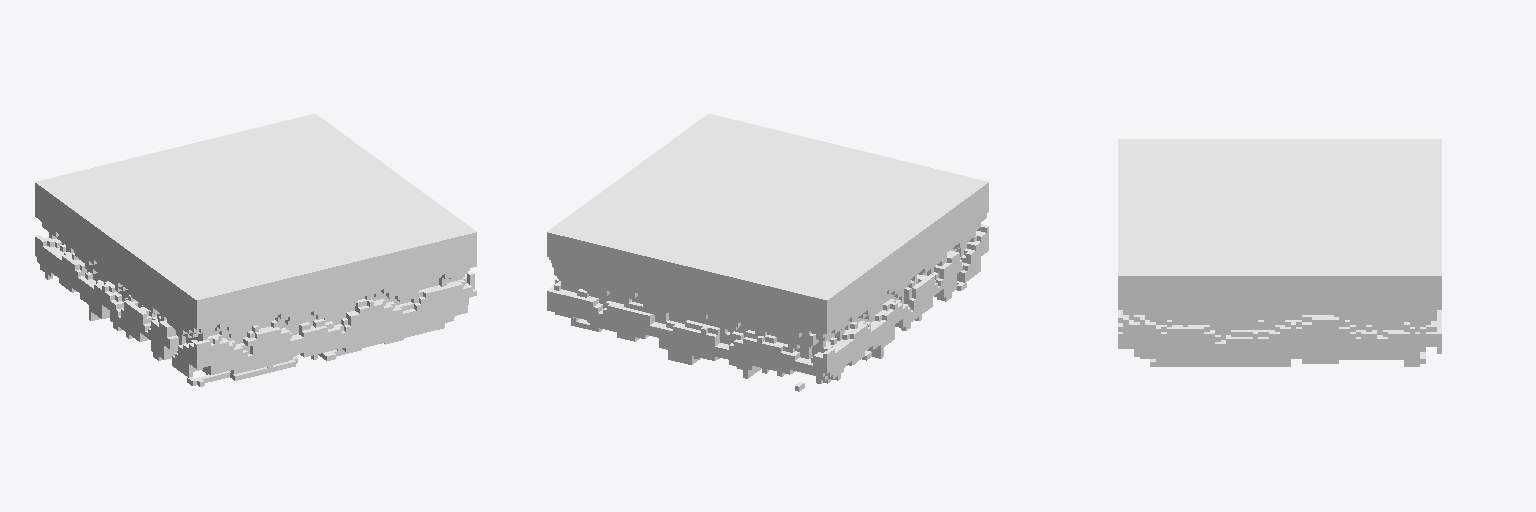
The model's file is ground_Cen.obj.
The picture shows the model from 3 angles: view 1: azimuth 30°, elevation 25°; view 2: azimuth 150°, elevation 25°; view 3: azimuth 270°, elevation 25°; orthographic projection.
Parts seen in each view (by area): view 1: ground_Cen; view 2: ground_Cen; view 3: ground_Cen.
Part boxes in pixels (x1,y1,x2,y2): ground_Cen: (35, 114, 476, 386); ground_Cen: (547, 114, 988, 391); ground_Cen: (1118, 139, 1441, 366).
Size of the model in its own units: 60 by 20 by 60.